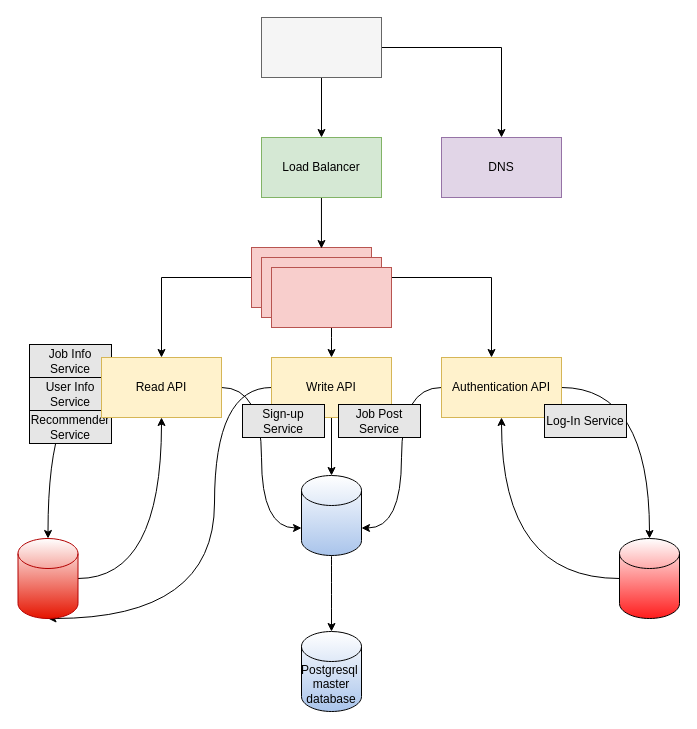
The diagram is 697 pixels wide and 729 high, and some of its shapes have lost their labels. Here are the shapes that lost their labels. From the top down, the centre of each, then its label:
At point 321,47: "Client".
At point 331,297: "Web Servers".
At point 331,515: "SQL read replicas".
At point 47,578: "Redis Cache".
At point 649,578: "Auth DB".
